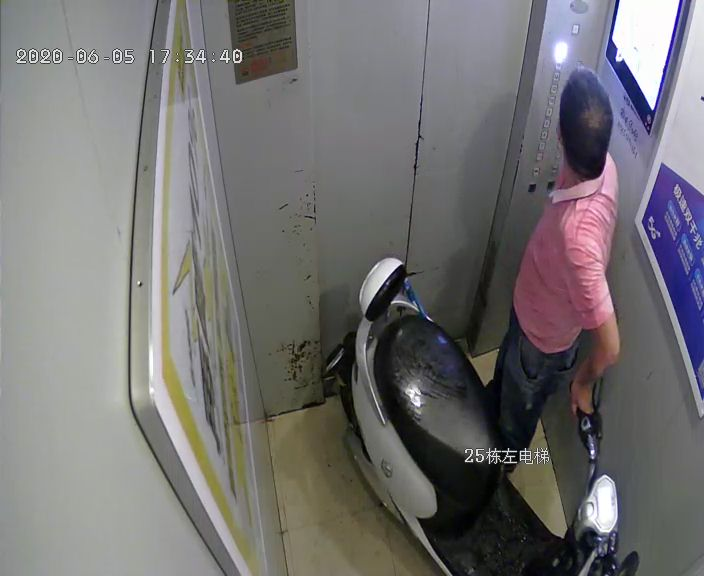Electric-bicycle: (352, 265, 620, 570)
